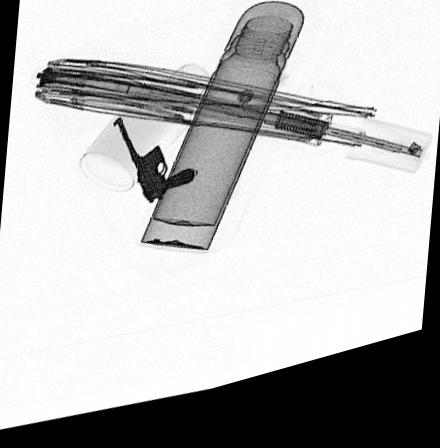Gun: (112, 122, 194, 211)
